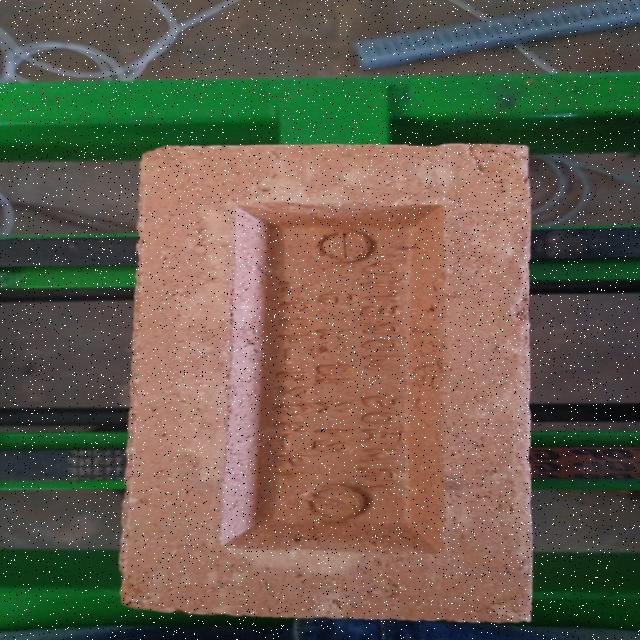bricks: (119, 143, 530, 621)
